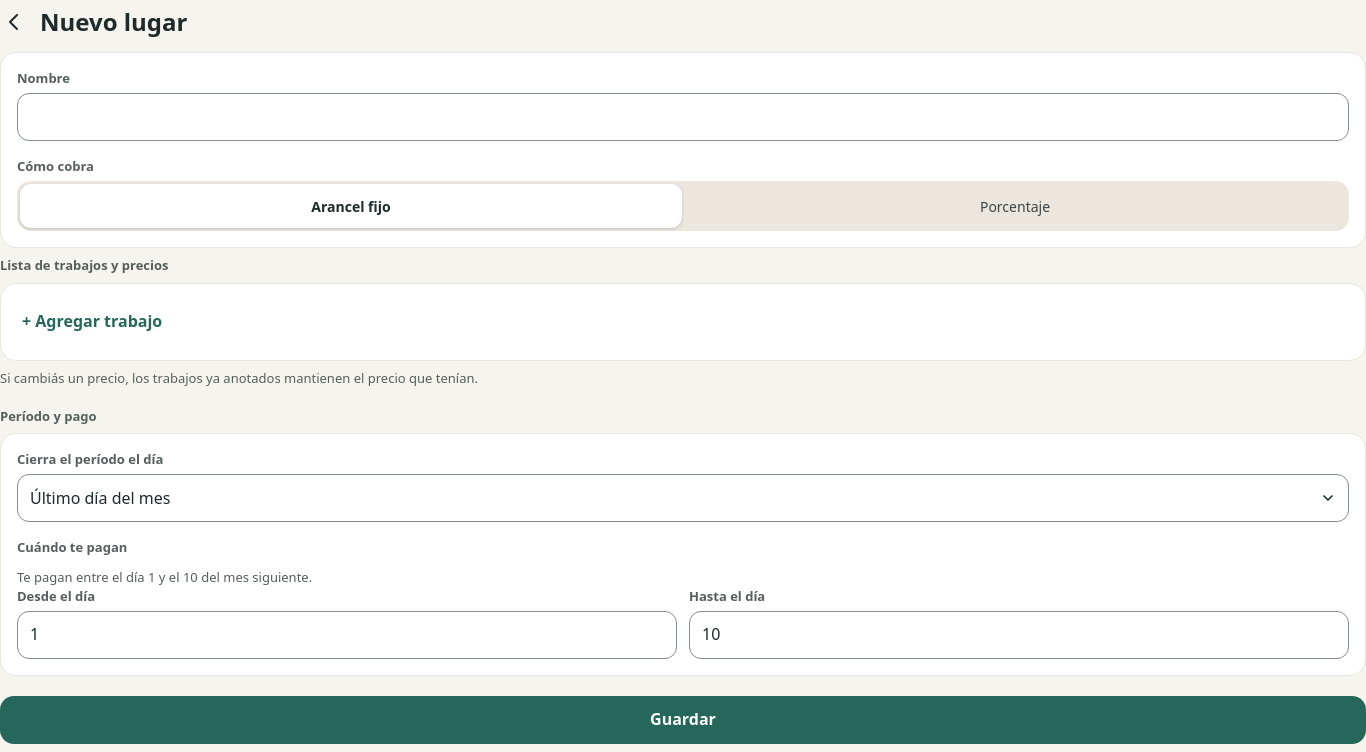
Test case: nuevo lugar › un monto con formato inválido muestra el mensaje en línea
Click the button "+ Agregar trabajo". click: (92, 322)
box: x1=17 y1=300 x2=167 y2=344
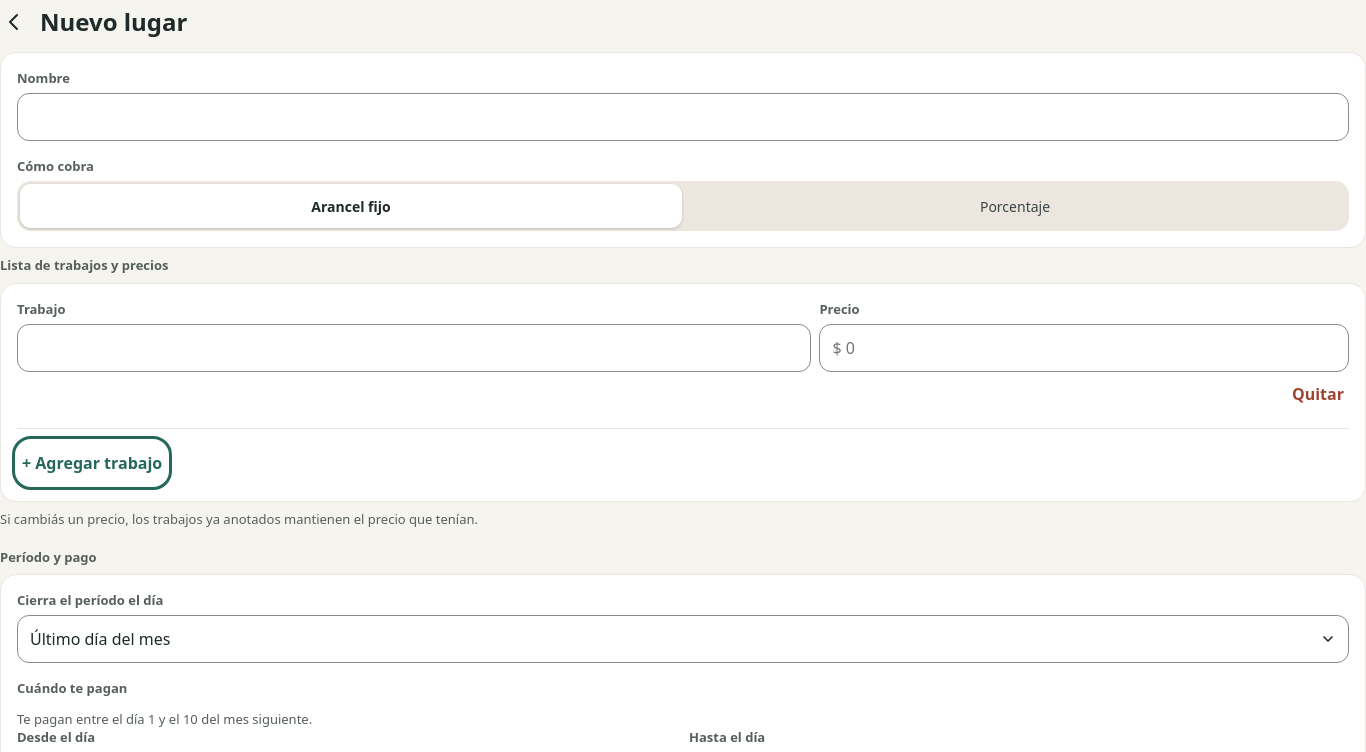
Type "1.234.50" into the field labelled "Precio". click: (1084, 348)
box: x1=819 y1=324 x2=1349 y2=372
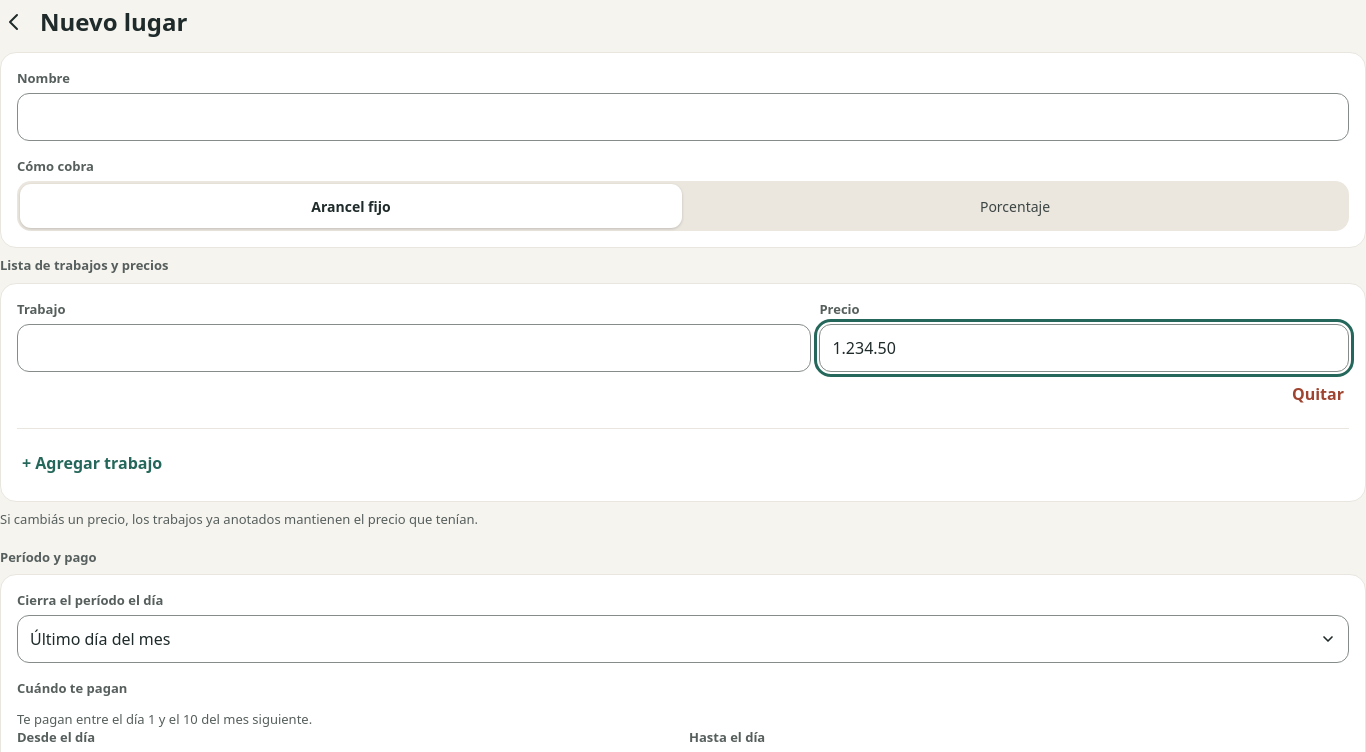
Press Tab
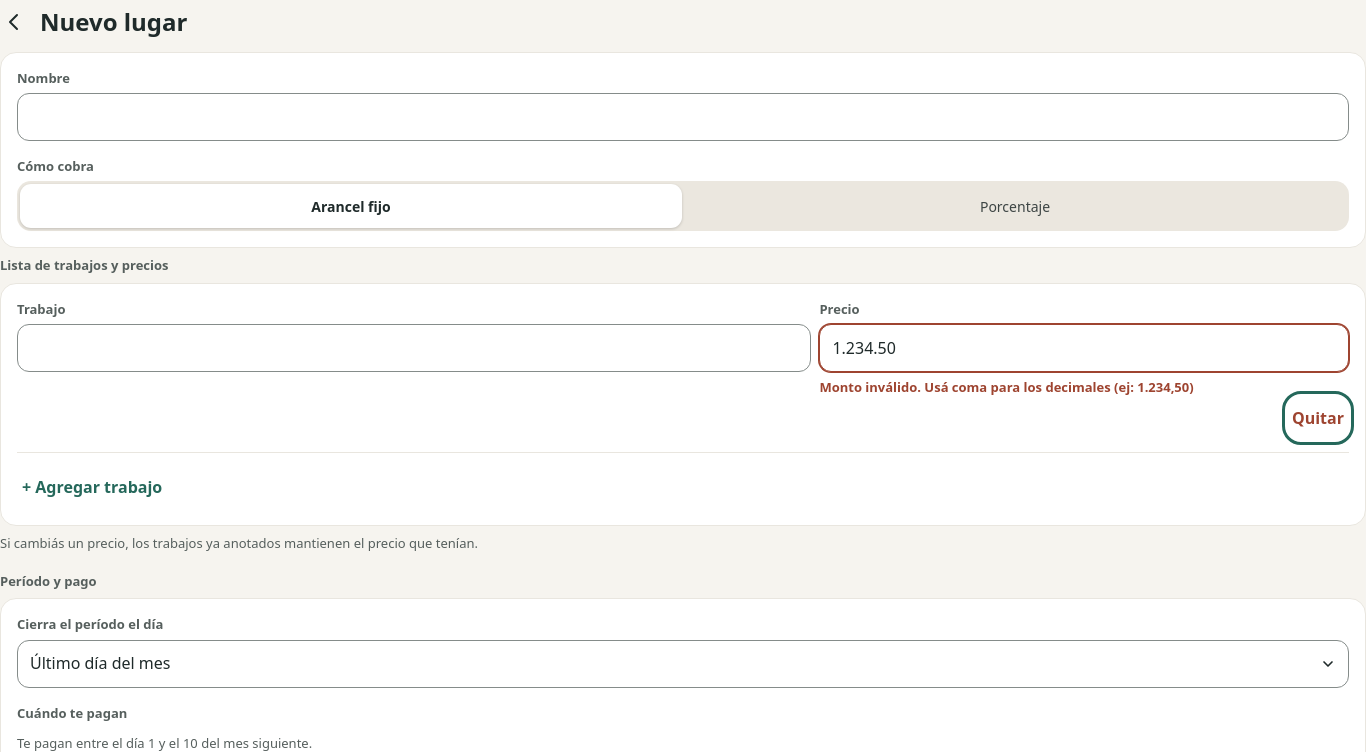
Check: the text "Monto inválido. Usá coma para los decimales (ej: 1.234,50)" is shown, box x1=819 y1=378 x2=1194 y2=396
